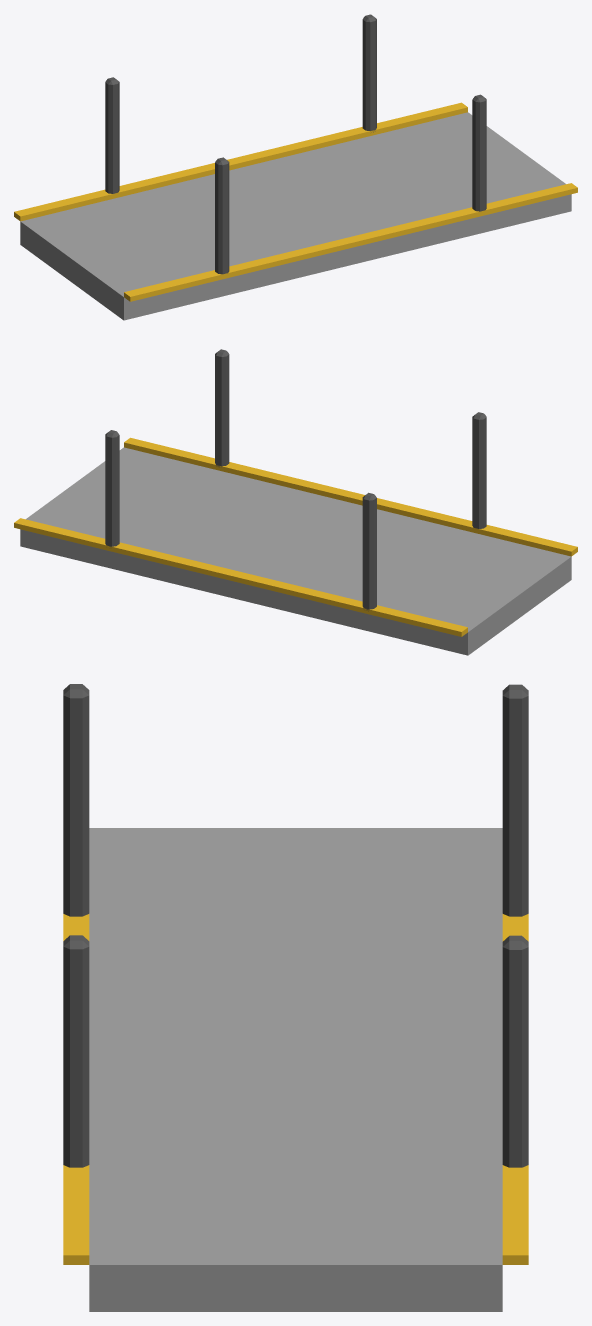
File: Elevator.fbx
3 views of the same model, one above another, from view 1: azimuth 30°, elevation 25°; view 2: azimuth 150°, elevation 25°; view 3: azimuth 270°, elevation 25° (orthographic). The views are drawn at different scales.
Parts seen in each view (by area): view 1: ElevatorRoad, ElevatorColumn; view 2: ElevatorRoad, ElevatorColumn; view 3: ElevatorRoad, ElevatorColumn.
Part boxes in pixels (box(x1,y1,x2,y2)): ElevatorRoad: box(20, 112, 571, 320); ElevatorColumn: box(14, 14, 577, 301); ElevatorRoad: box(20, 447, 571, 655); ElevatorColumn: box(14, 349, 577, 636); ElevatorRoad: box(89, 828, 502, 1311); ElevatorColumn: box(63, 684, 528, 1264).
Size of the model in its own units: 20 by 6 by 9.
